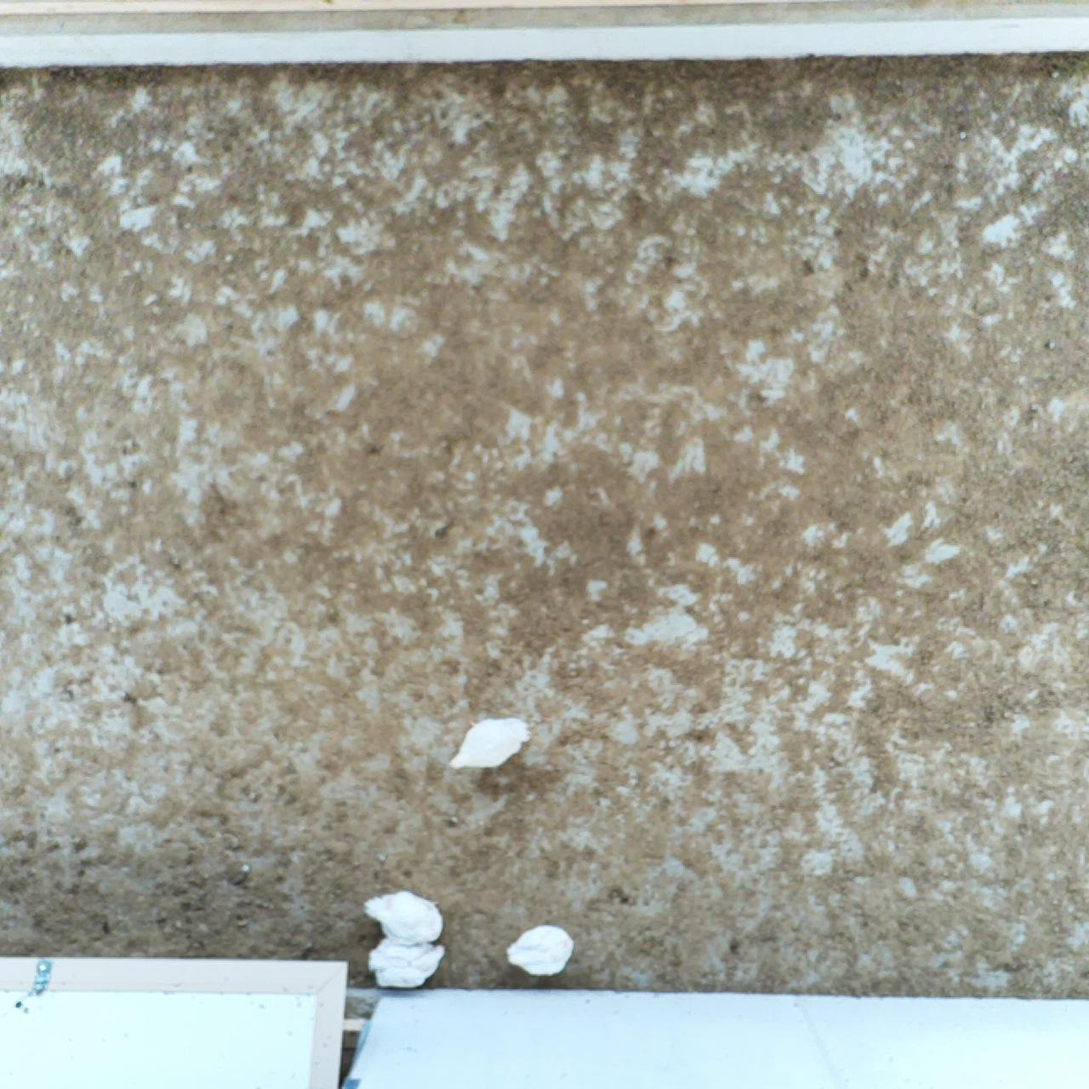chicken: (442, 710, 531, 775), (359, 886, 448, 949), (364, 935, 449, 994), (499, 918, 576, 982)
